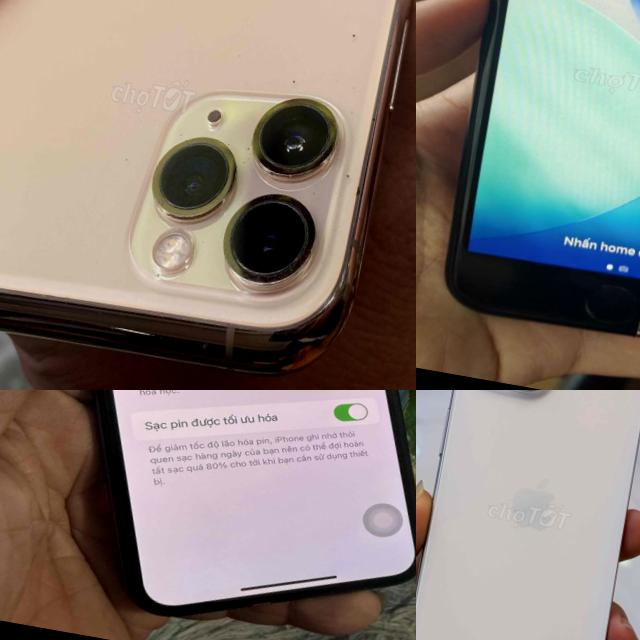gen_11: (0, 0, 416, 390), (93, 390, 416, 614)
gen_15: (416, 390, 640, 640)
